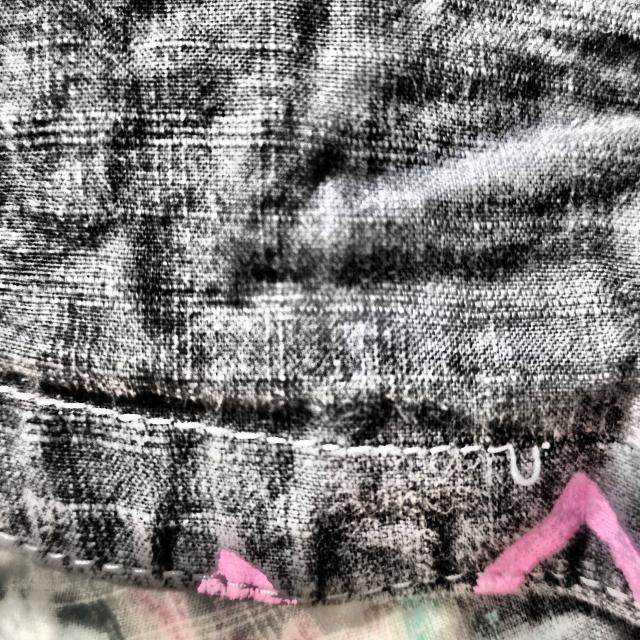gray stitch: (490, 427, 580, 489)
